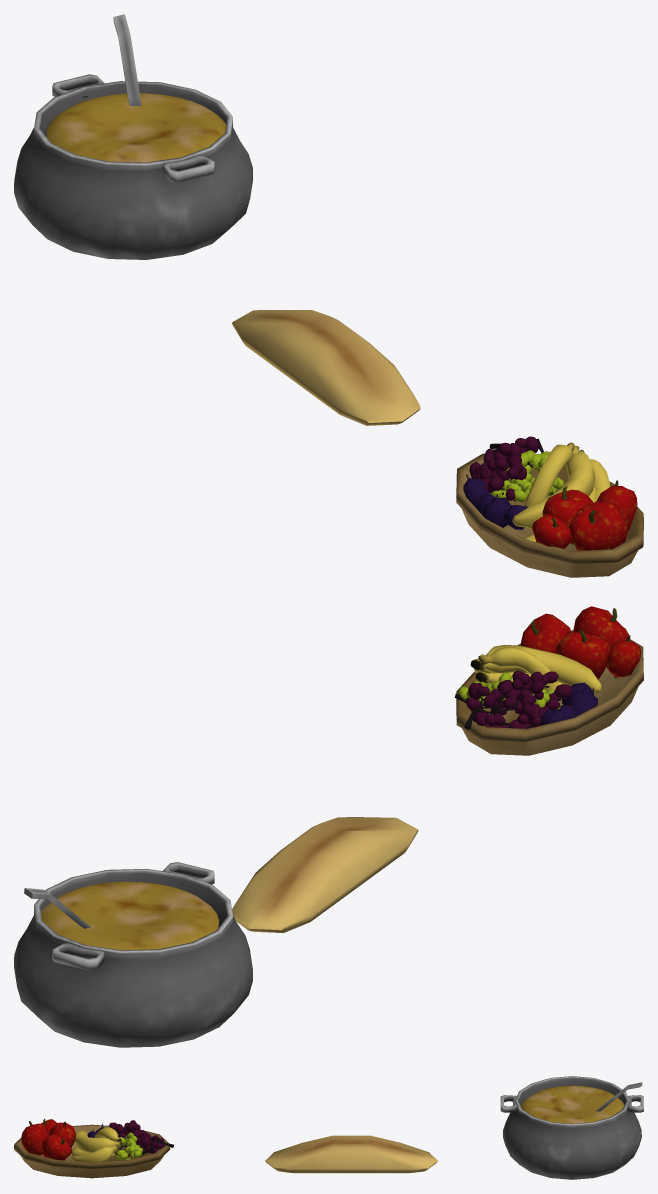
Rendered from MeyveTabağı-Ekmek-Kazan.fbx.
The picture shows the model from 3 angles, top to bottom: view 1: azimuth 30°, elevation 25°; view 2: azimuth 150°, elevation 25°; view 3: azimuth 270°, elevation 25°; orthographic projection. The views are drawn at different scales.
Visible parts, largest first — view 1: Ladle, Plum, Bread; view 2: Ladle, Plum, Bread; view 3: Ladle, Plum, Bread.
Part boxes in pixels (left/top/right/bottom): Ladle: left=14, top=14, right=252, bottom=259; Plum: left=456, top=442, right=643, bottom=577; Bread: left=231, top=310, right=420, bottom=425; Ladle: left=14, top=862, right=252, bottom=1047; Plum: left=456, top=606, right=643, bottom=755; Bread: left=232, top=817, right=418, bottom=933; Ladle: left=500, top=1076, right=643, bottom=1179; Plum: left=14, top=1119, right=170, bottom=1178; Bread: left=265, top=1135, right=437, bottom=1173.
Size of the model in its own units: 21.6 by 16.51 by 97.86.
Materials: 2 (1 with a texture image).
